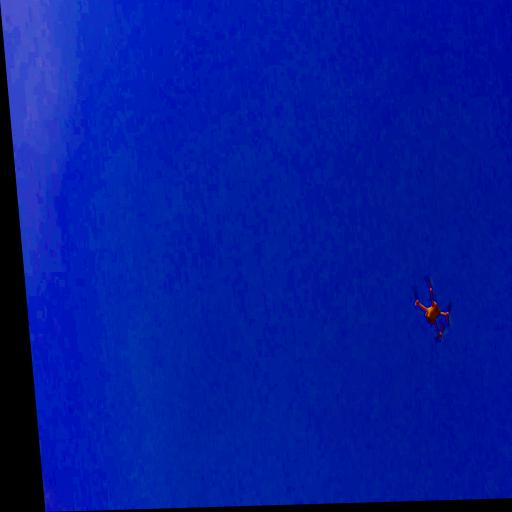drones: (411, 272, 457, 347)
